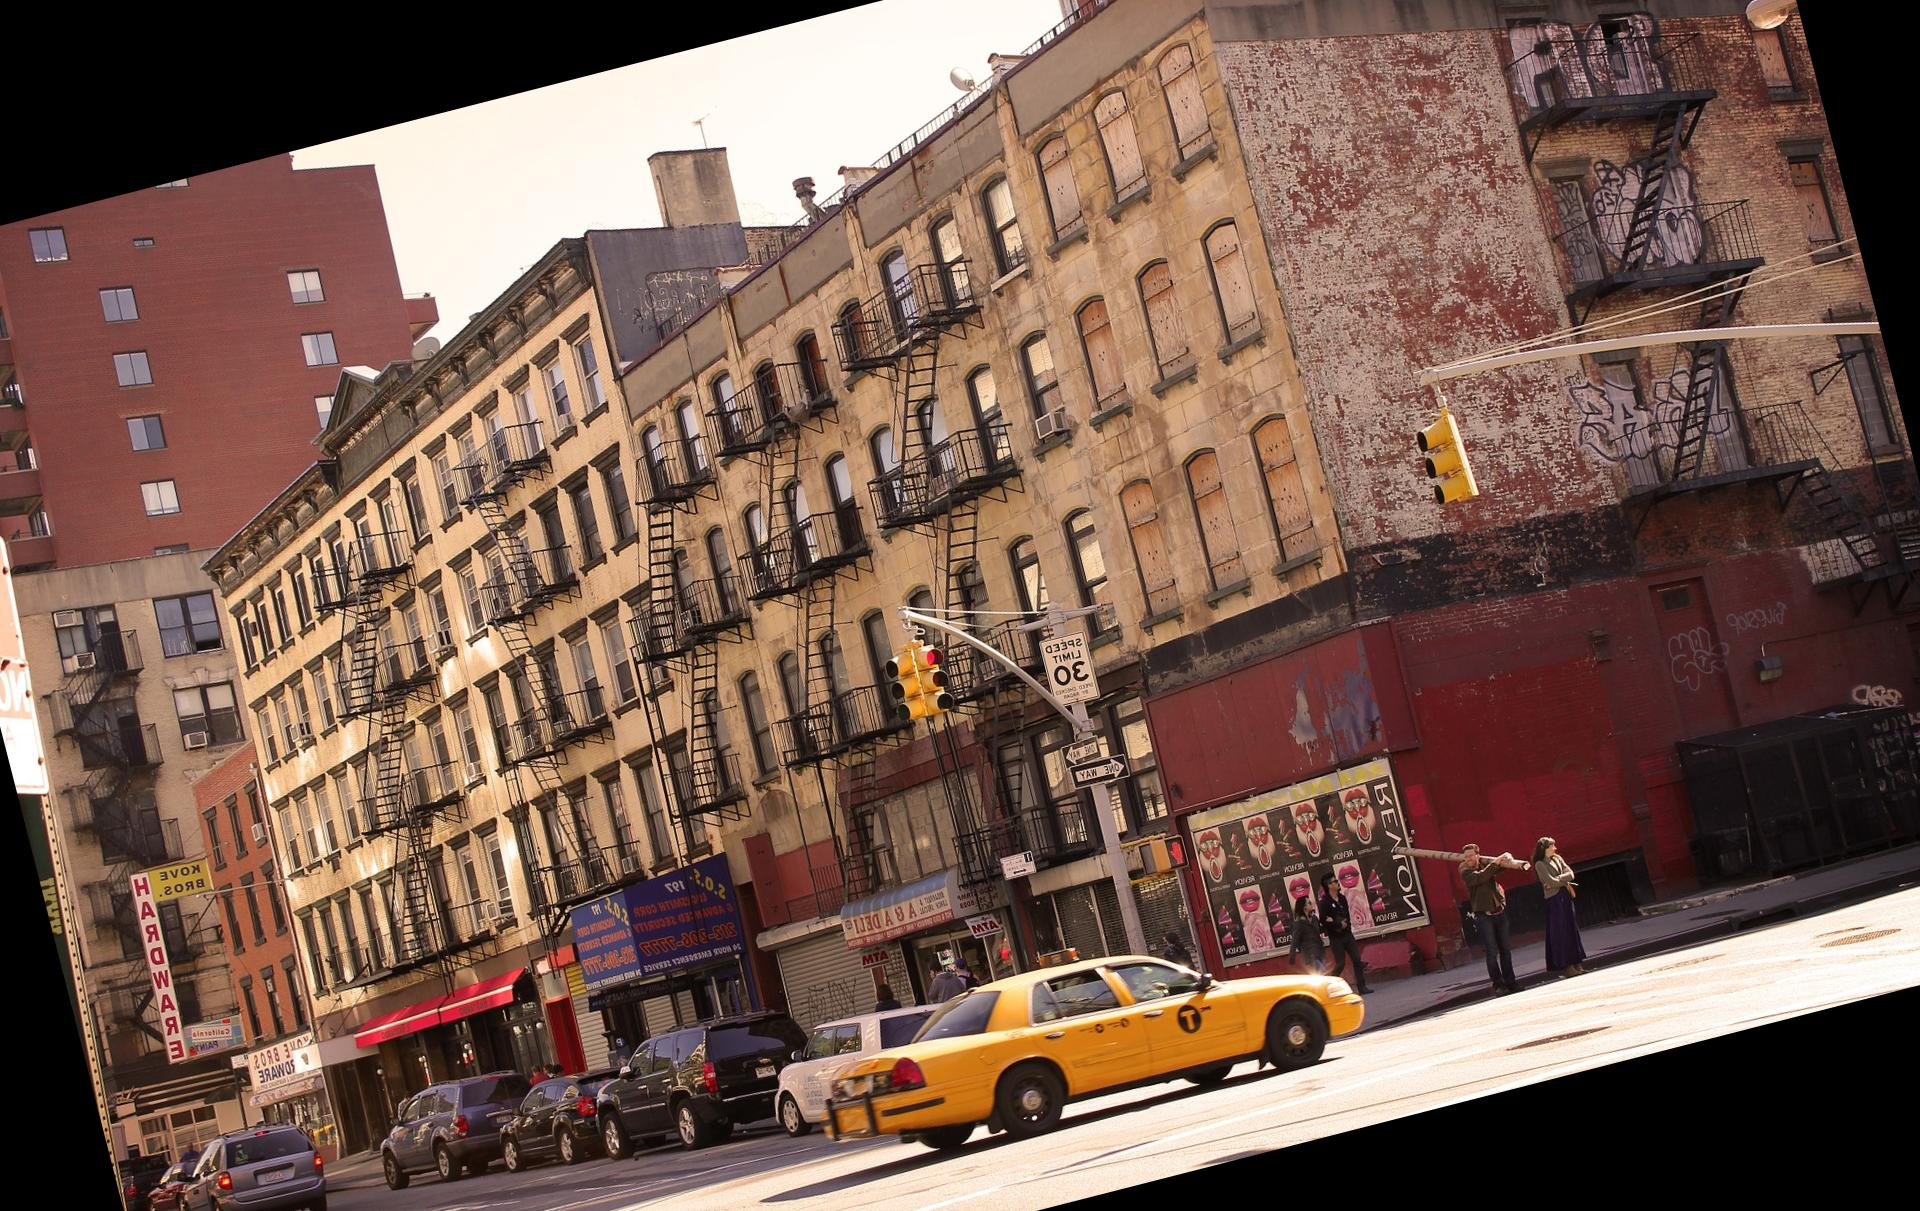taxi: (794, 912, 1381, 1164)
